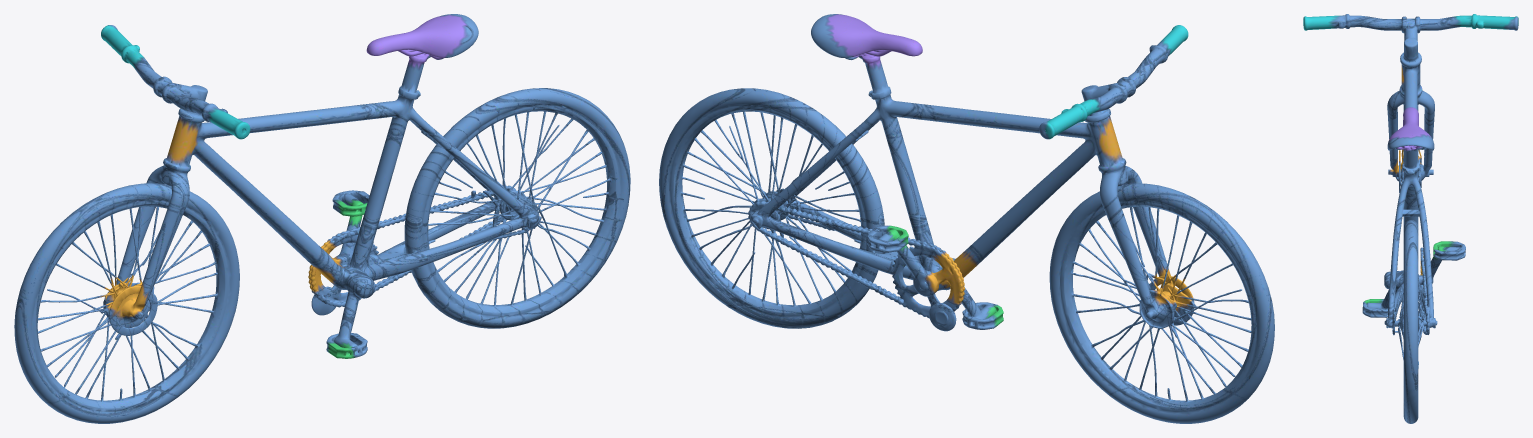
File: bike.glb
3 renders of one model, left to right at view 1: azimuth 30°, elevation 25°; view 2: azimuth 150°, elevation 25°; view 3: azimuth 270°, elevation 25°, orthographic. The views are drawn at different scales.
Visible parts, largest first — view 1: Mesh_0; view 2: Mesh_0; view 3: Mesh_0.
Part boxes in pixels (x1,y1,x2,y2): Mesh_0: (14,14,630,423); Mesh_0: (659,14,1274,423); Mesh_0: (1303,14,1518,423).
Bounding box in the file's own units: 1 × 0.5211 × 0.3837.
1 material, 1 textured.
